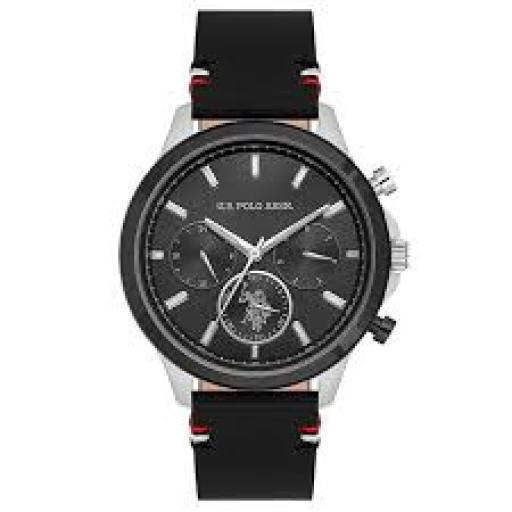KolSaati: (115, 1, 411, 512)
